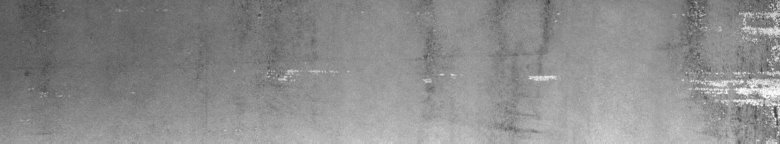hc: (668, 4, 776, 136)
